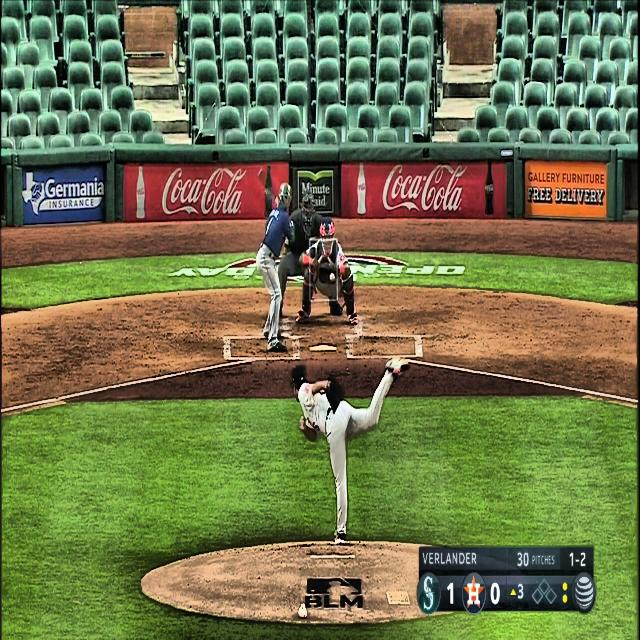baseball: (329, 272, 335, 282)
